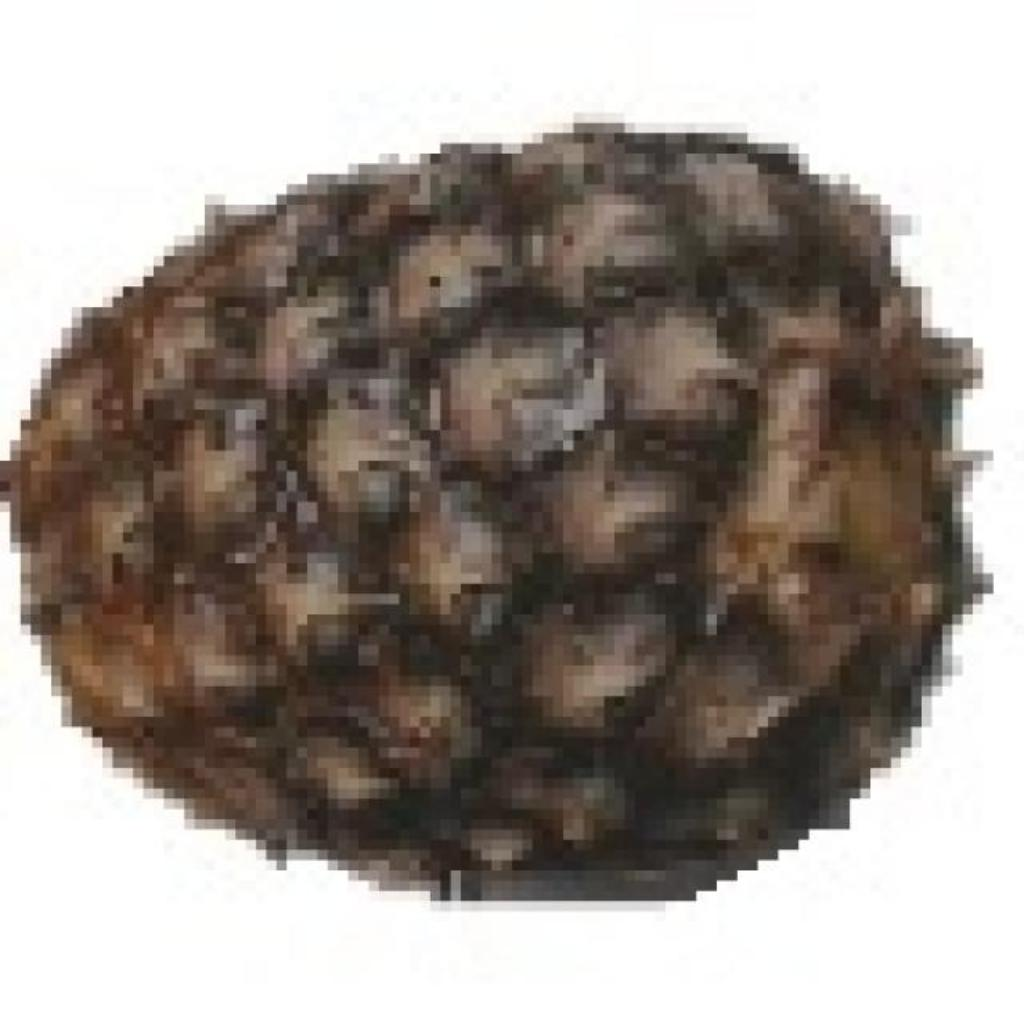pineapple: (0, 113, 952, 881)
